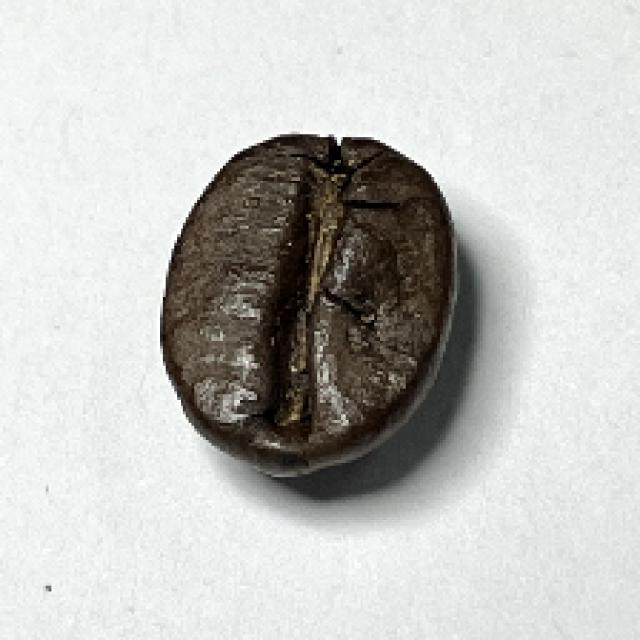bean: (156, 126, 460, 478)
